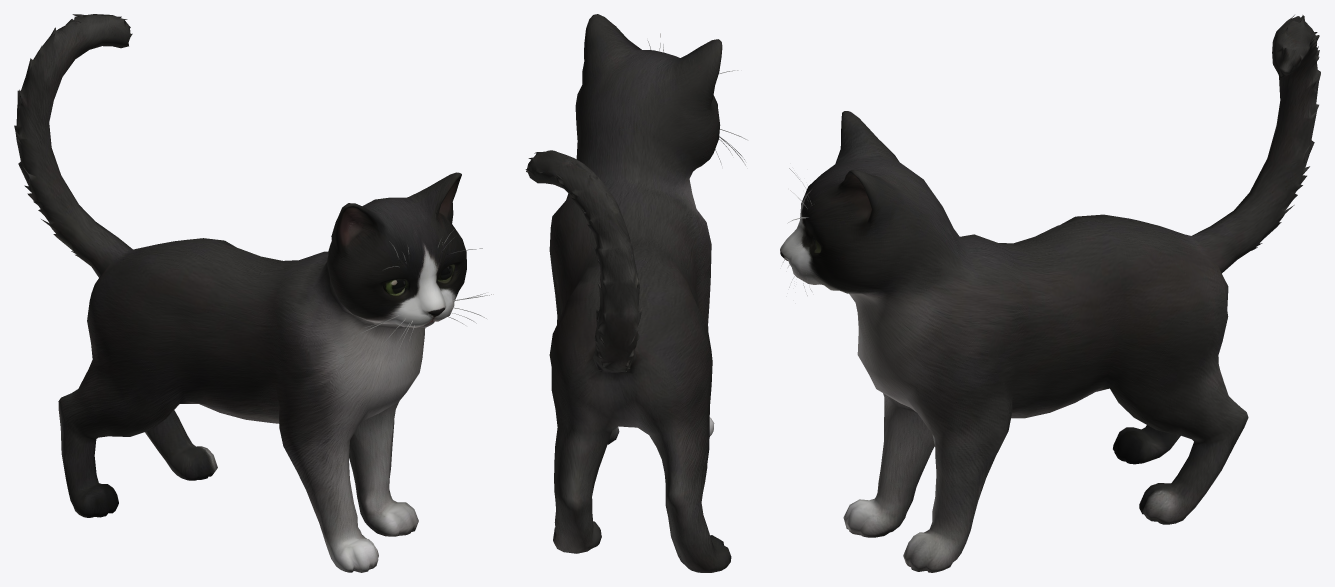
Rendered from small-model-cat.glb.
3 renders of one model, left to right at view 1: azimuth 30°, elevation 25°; view 2: azimuth 150°, elevation 25°; view 3: azimuth 270°, elevation 25°, orthographic. The views are drawn at different scales.
Visible parts, largest first — view 1: tripo_node_b0c3eebe-2350-4290-a991-f53e9d5e6782; view 2: tripo_node_b0c3eebe-2350-4290-a991-f53e9d5e6782; view 3: tripo_node_b0c3eebe-2350-4290-a991-f53e9d5e6782.
Part boxes in pixels (<box>): tripo_node_b0c3eebe-2350-4290-a991-f53e9d5e6782: <box>14,14,493,572</box>; tripo_node_b0c3eebe-2350-4290-a991-f53e9d5e6782: <box>525,14,746,572</box>; tripo_node_b0c3eebe-2350-4290-a991-f53e9d5e6782: <box>780,15,1320,572</box>.
Bounding box in the file's own units: 0.6353 × 0.96 × 0.9995.
Materials: 1 (1 with a texture image).
